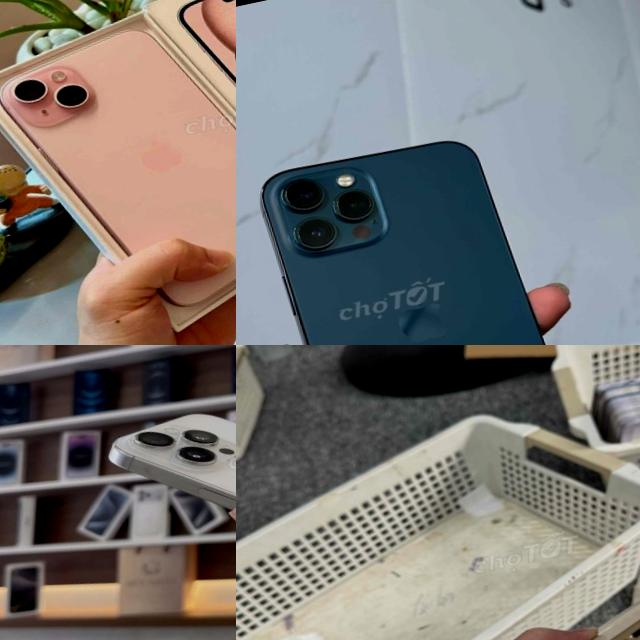gen_12_13: (244, 120, 602, 345), (0, 0, 236, 331), (505, 559, 640, 640)
gen_16: (109, 414, 236, 508)
